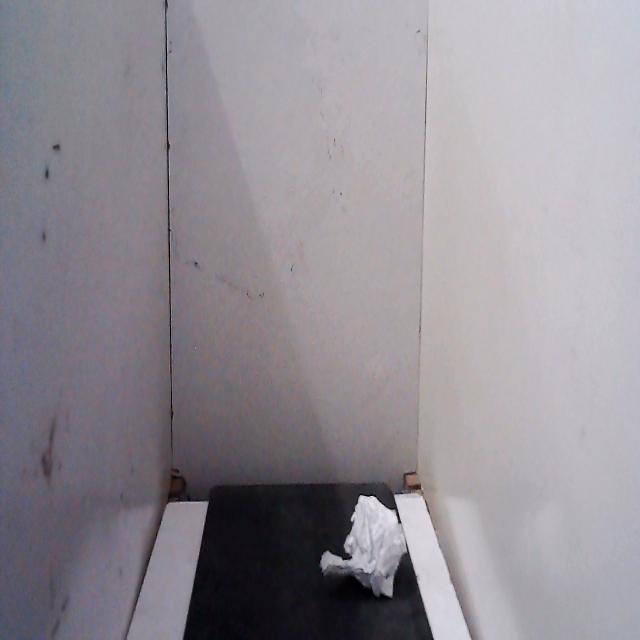papel: (317, 489, 410, 605)
